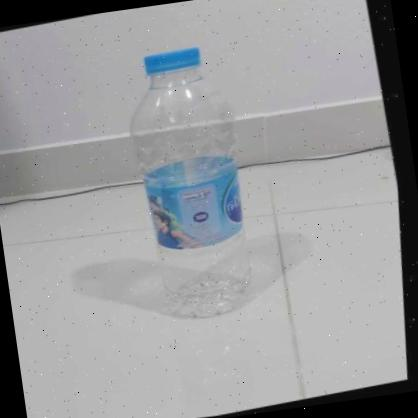bottle: (118, 41, 259, 322)
cap: (142, 48, 204, 78)
label: (140, 154, 248, 256)
